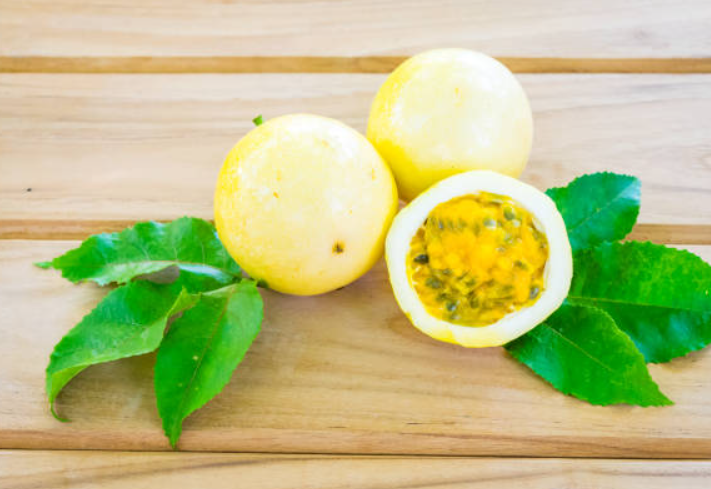maracuya: (212, 109, 403, 297), (359, 44, 538, 203)
